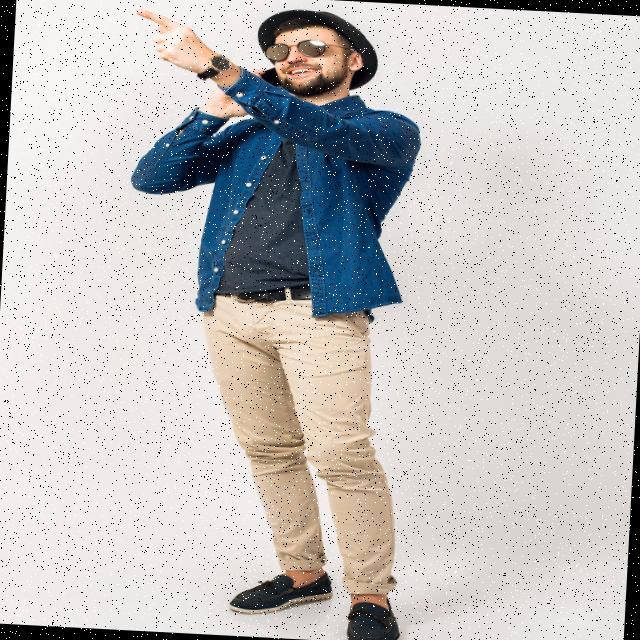Person: (98, 0, 432, 640)
